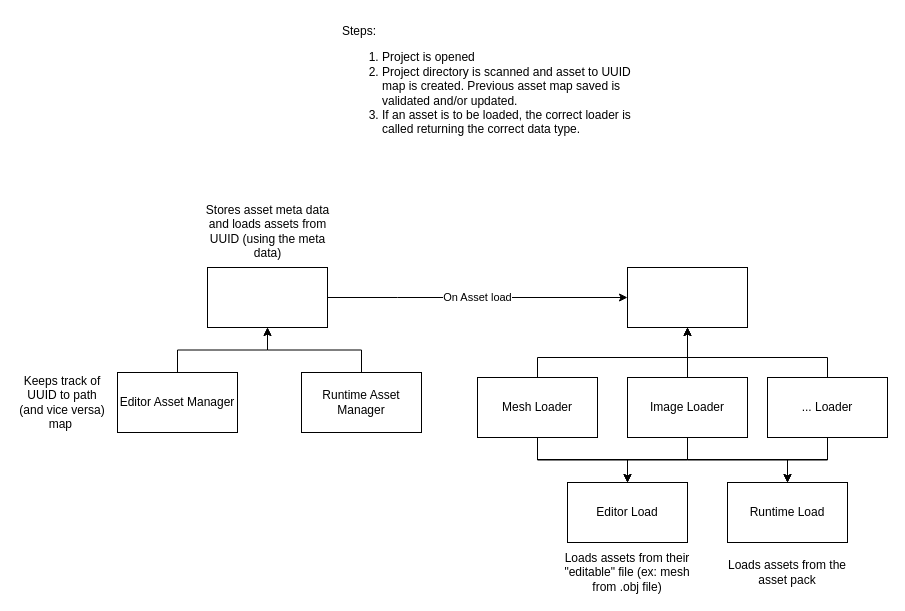
This 905x611 diagram has some shape labels left out. Here are the shapes that lost their labels. From the top down, the centre of each, then its label:
pixel 267 297: Asset Manager
pixel 687 297: Asset Loader
